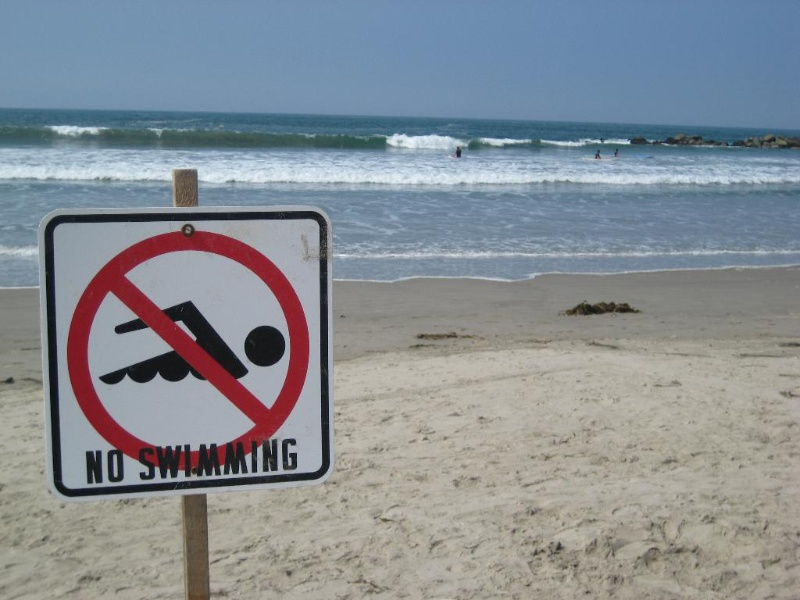no_swimming: (41, 215, 334, 483)
